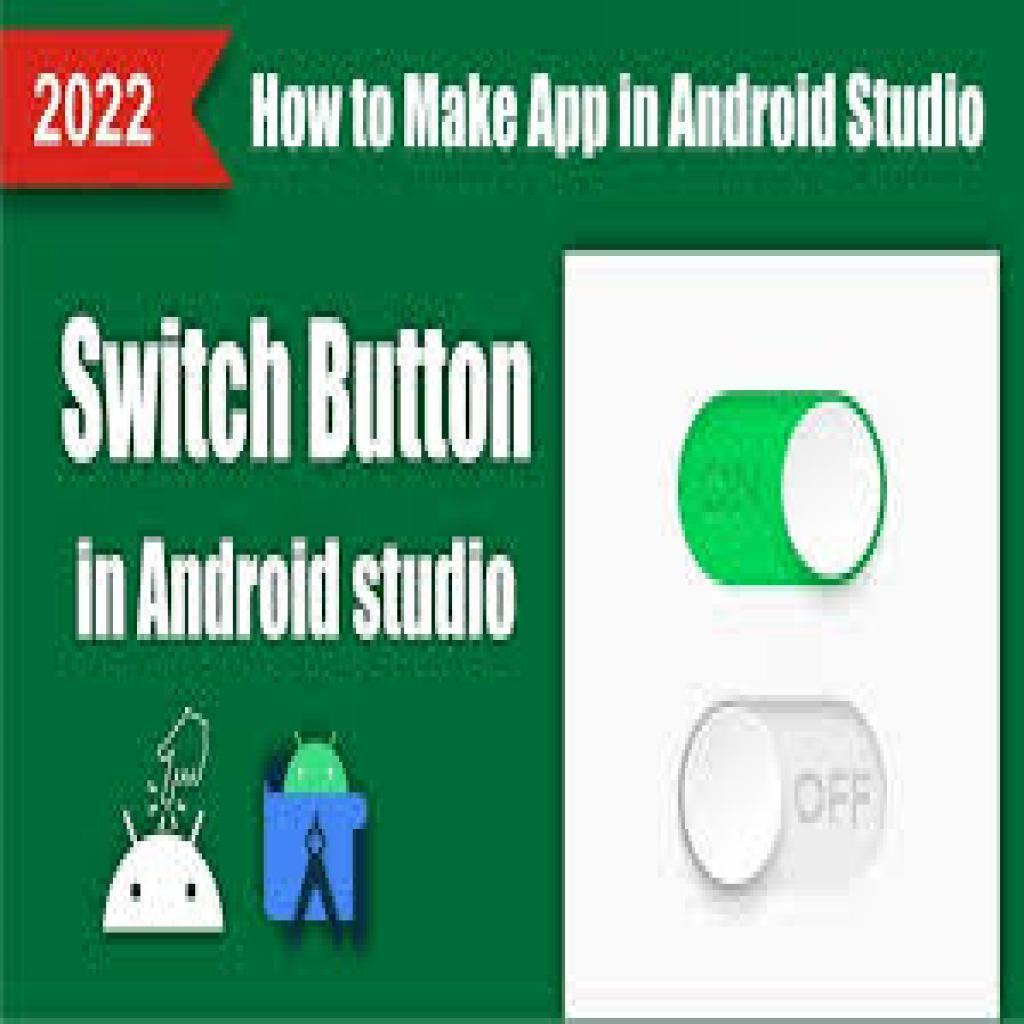switch: (678, 699, 890, 897), (682, 390, 889, 590)
